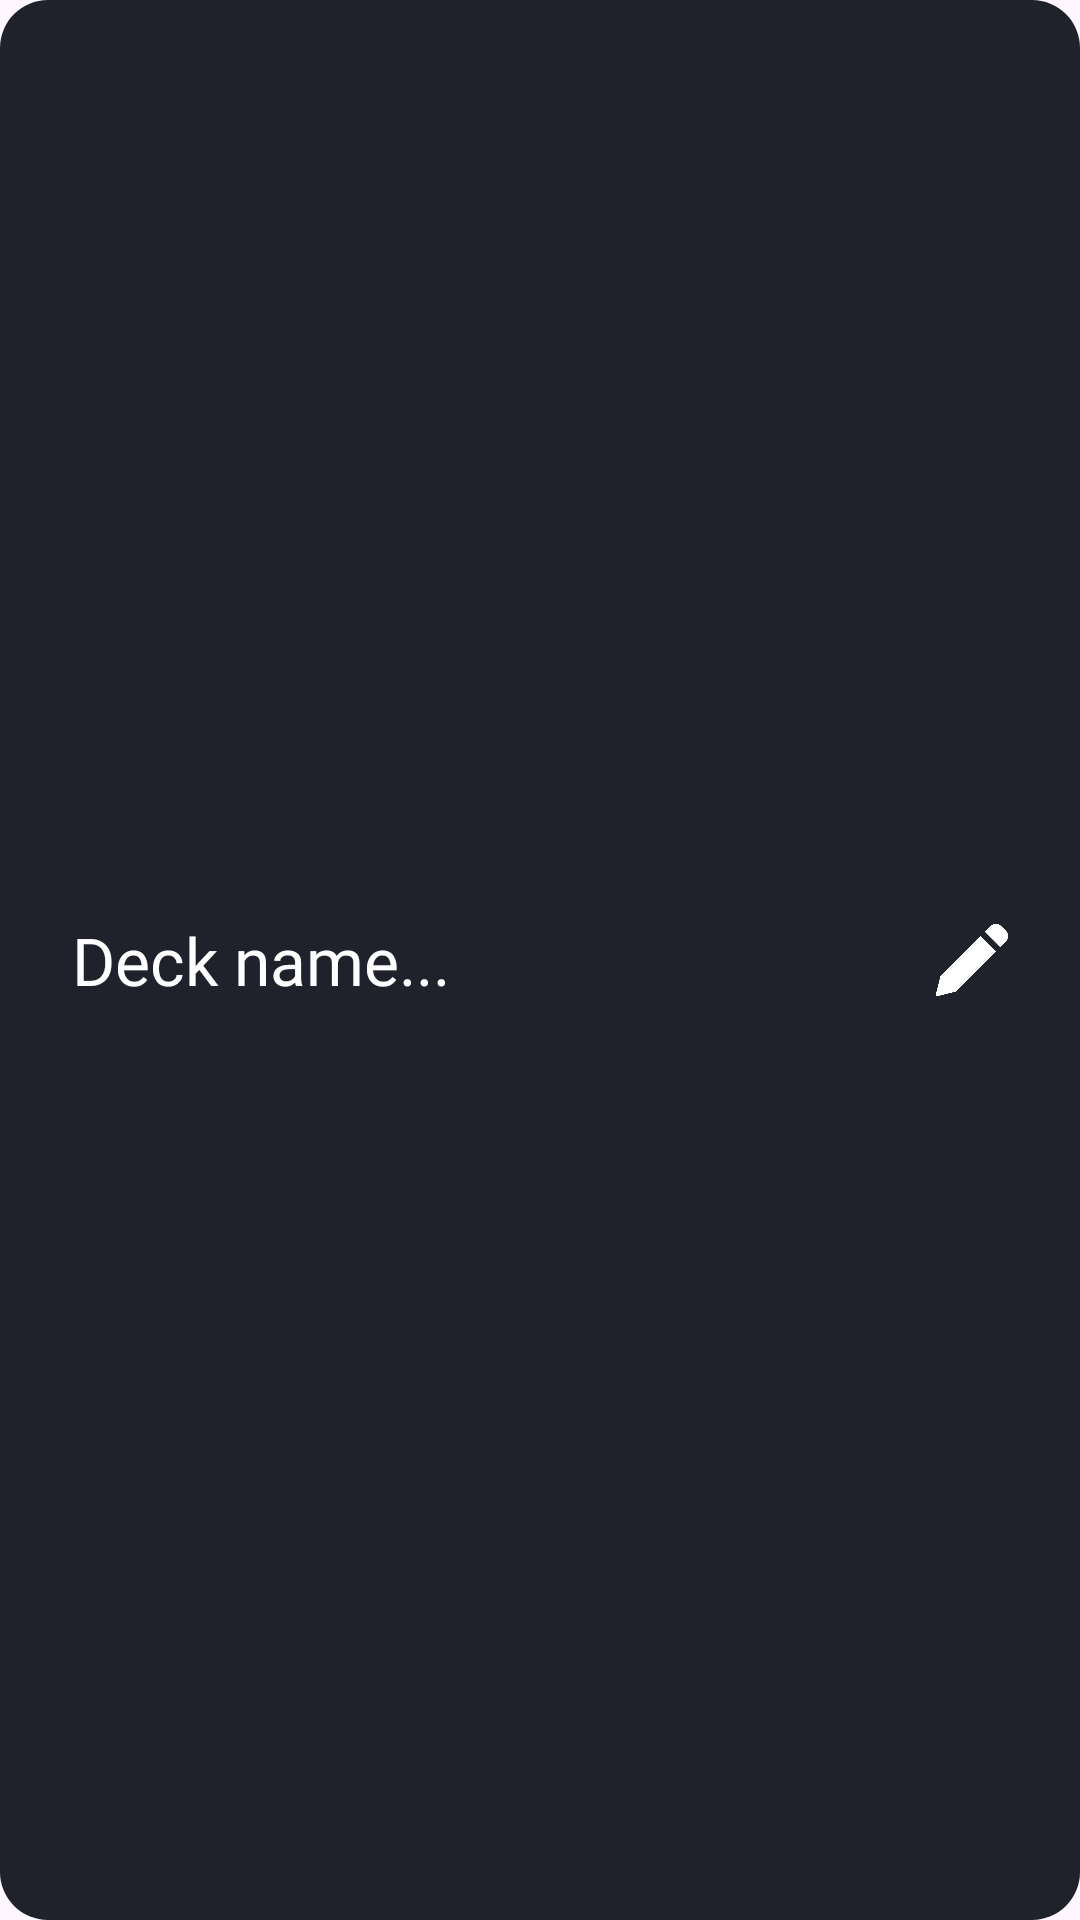

Icon click points for this 1080*1920 phone screenshot, format (x,y):
pencil: (972,960)
